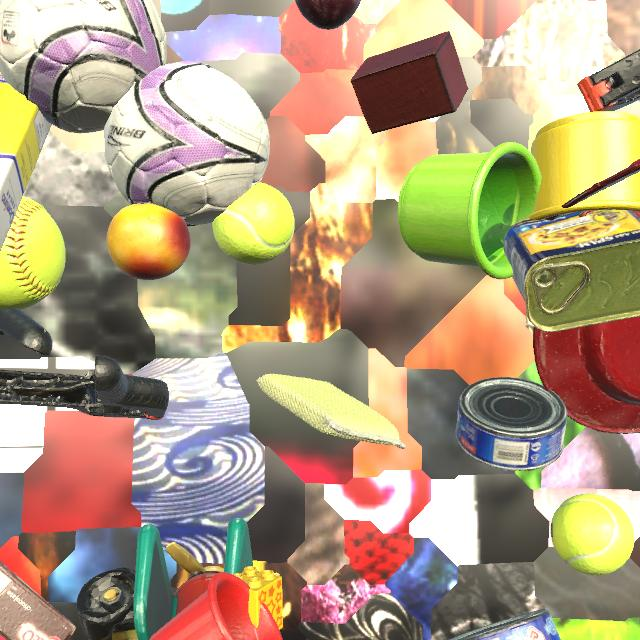ycb_004_sugar_box: (0, 73, 52, 251)
ycb_007_tuna_fish_can: (455, 377, 567, 471), (449, 609, 561, 640)
ycb_008_pudding_box: (0, 561, 76, 640)
ycb_010_potted_meat_can: (503, 210, 640, 332)
ycb_015_peach: (107, 203, 191, 280)
ycb_018_plum: (295, 0, 361, 30)
